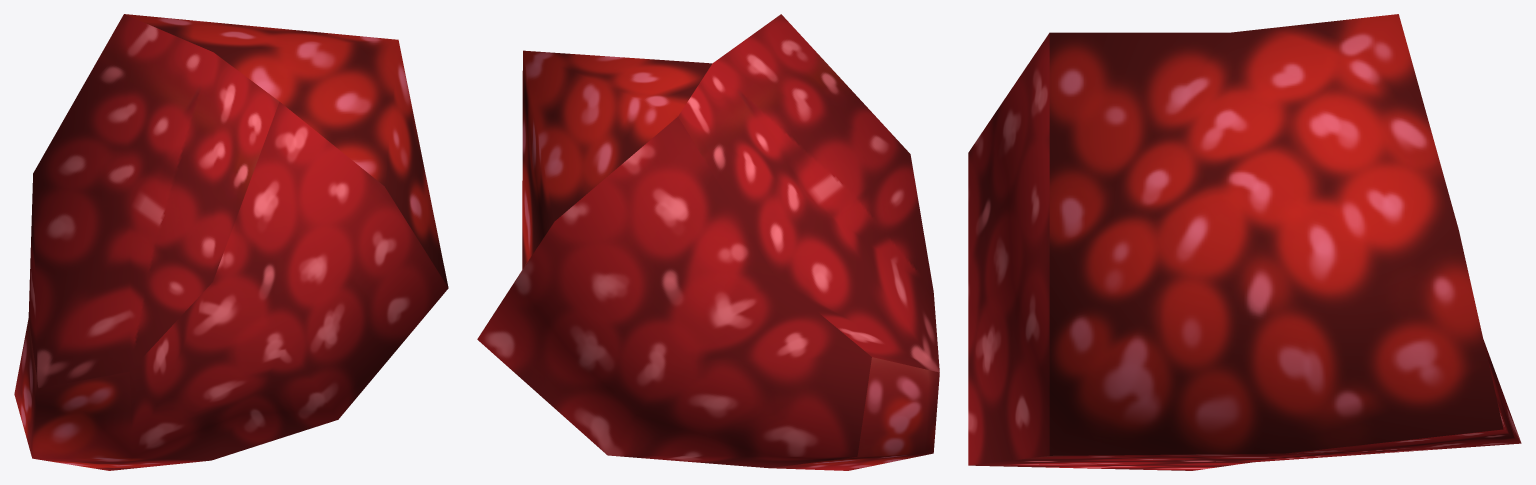
File: PartGarnet_2.fbx
3 views of the same model, side by side, from view 1: azimuth 30°, elevation 25°; view 2: azimuth 150°, elevation 25°; view 3: azimuth 270°, elevation 25° (orthographic). The views are drawn at different scales.
Parts seen in each view (by area): view 1: Sphere.004; view 2: Sphere.004; view 3: Sphere.004.
Part boxes in pixels (left/top/right/bottom): Sphere.004: left=14, top=14, right=448, bottom=470; Sphere.004: left=477, top=14, right=939, bottom=470; Sphere.004: left=968, top=14, right=1521, bottom=470.
Size of the model in its own units: 43.38 by 41 by 39.76.
